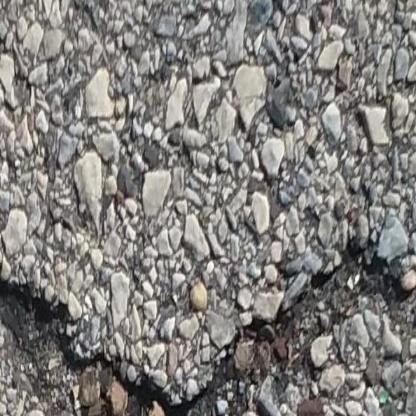Cracks: (0, 254, 416, 416)
